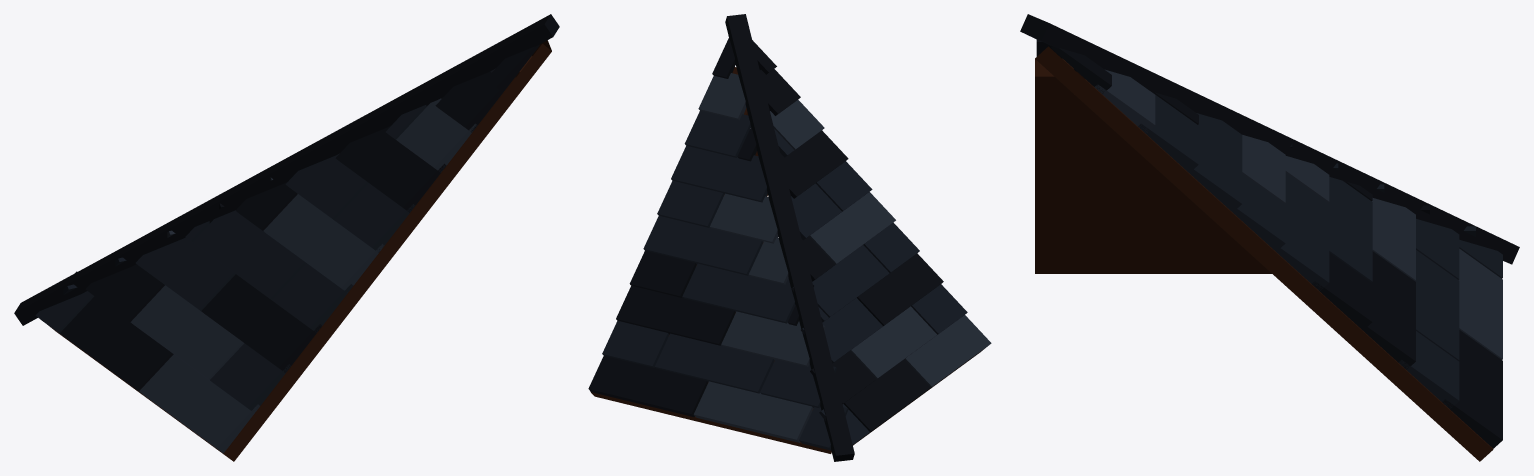
The model's file is SM_Bld_Roof_Slate_Corner45.glb.
3 views of the same model, side by side, from view 1: azimuth 30°, elevation 25°; view 2: azimuth 150°, elevation 25°; view 3: azimuth 270°, elevation 25° (orthographic). The views are drawn at different scales.
Parts seen in each view (by area): view 1: SM_Bld_Roof_Slate_Corner45; view 2: SM_Bld_Roof_Slate_Corner45; view 3: SM_Bld_Roof_Slate_Corner45.
Boxes of the visible parts, x1,y1,x2,y2 form: SM_Bld_Roof_Slate_Corner45: [14, 14, 559, 461]; SM_Bld_Roof_Slate_Corner45: [588, 14, 991, 461]; SM_Bld_Roof_Slate_Corner45: [1020, 14, 1519, 461].
Bounding box in the file's own units: 2.6 × 2.54 × 2.6.
1 material, 1 textured.
